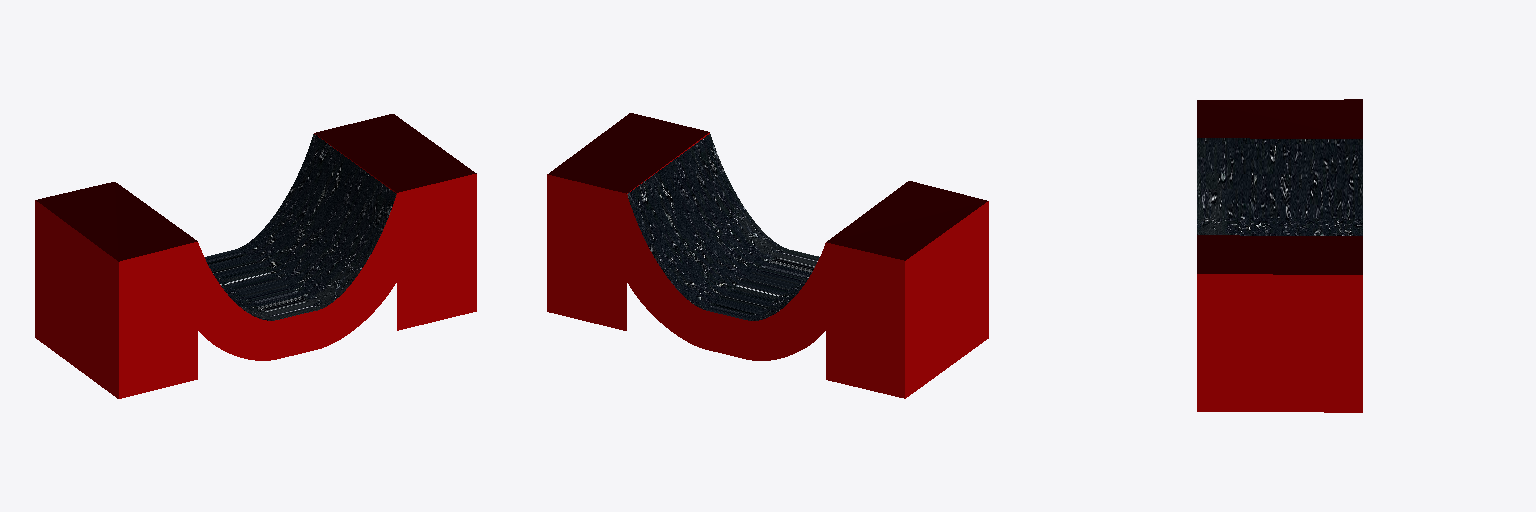
3 views of the same model, side by side, from view 1: azimuth 30°, elevation 25°; view 2: azimuth 150°, elevation 25°; view 3: azimuth 270°, elevation 25° (orthographic).
Visible parts, largest first — view 1: Plane_Plane.004; view 2: Plane_Plane.004; view 3: Plane_Plane.004.
Boxes of the visible parts, box(x1,y1,x2,y2) form: Plane_Plane.004: box(35, 114, 476, 398); Plane_Plane.004: box(547, 113, 988, 398); Plane_Plane.004: box(1197, 99, 1362, 412).
Bounding box in the file's own units: 10.7 × 3.96 × 4.31.
3 materials, 1 textured.